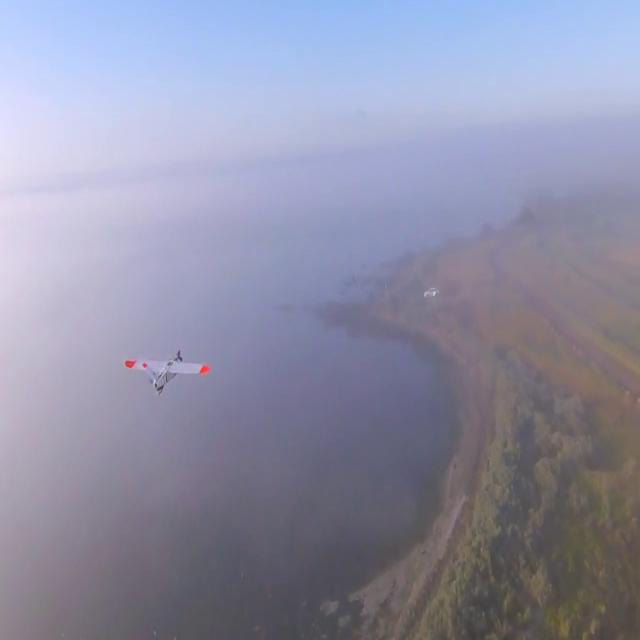iha: (153, 354, 178, 399)
